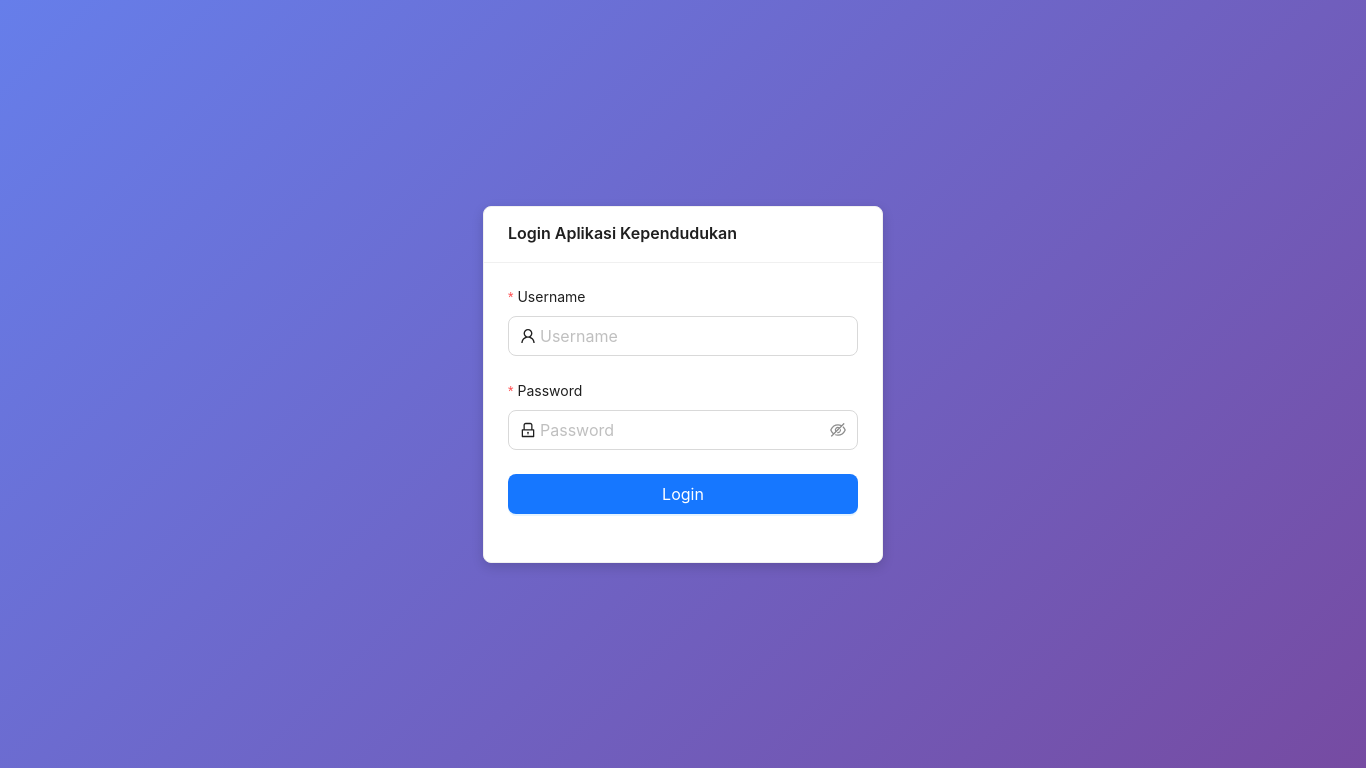
Aplikasi Kependudukan - Comprehensive Login Tests › Authentication Flow › should show error with wrong credentials
The width and height of the screenshot is (1366, 768).
Step 1. Type "wronguser" into the field with placeholder "Username" → (693, 336), box [540, 324, 846, 348]
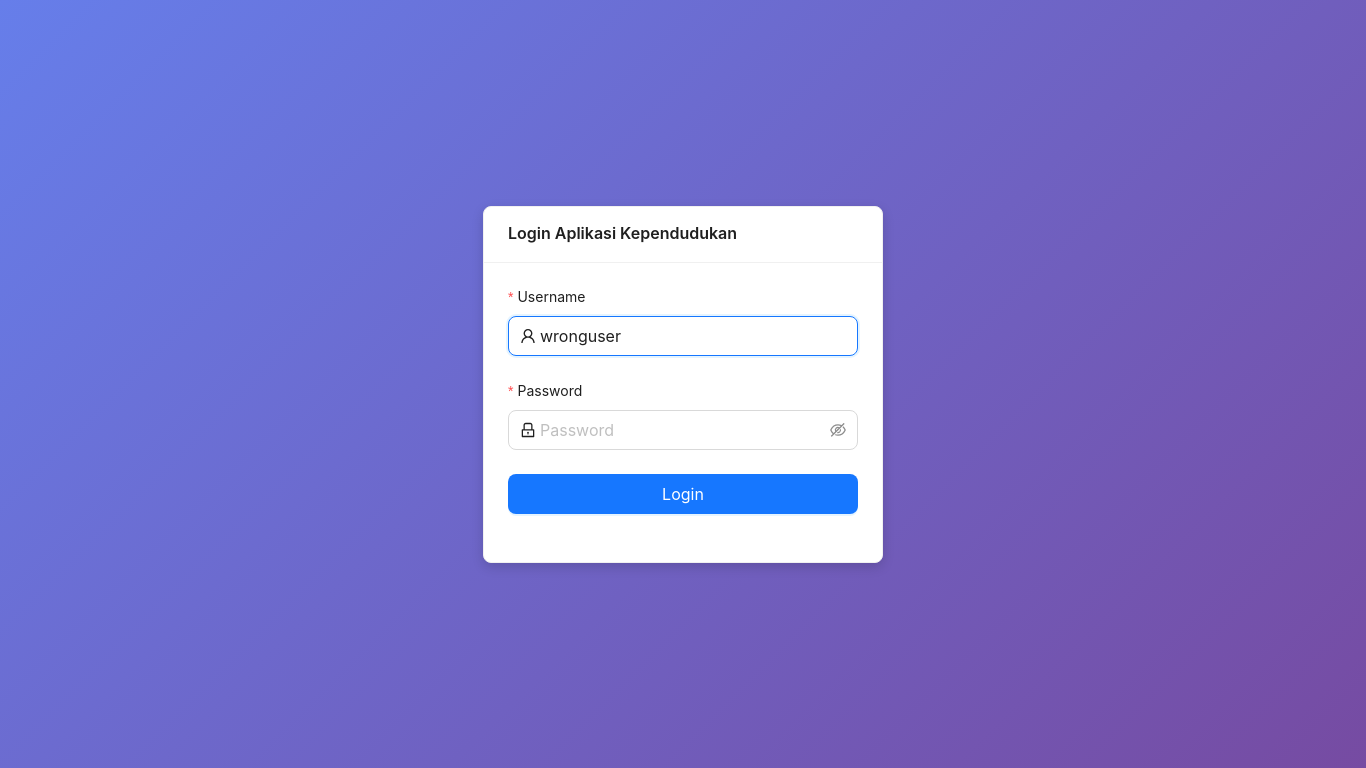
Step 2. Type "wrongpass" into the password field with placeholder "Password" → (683, 430), box [540, 418, 826, 442]
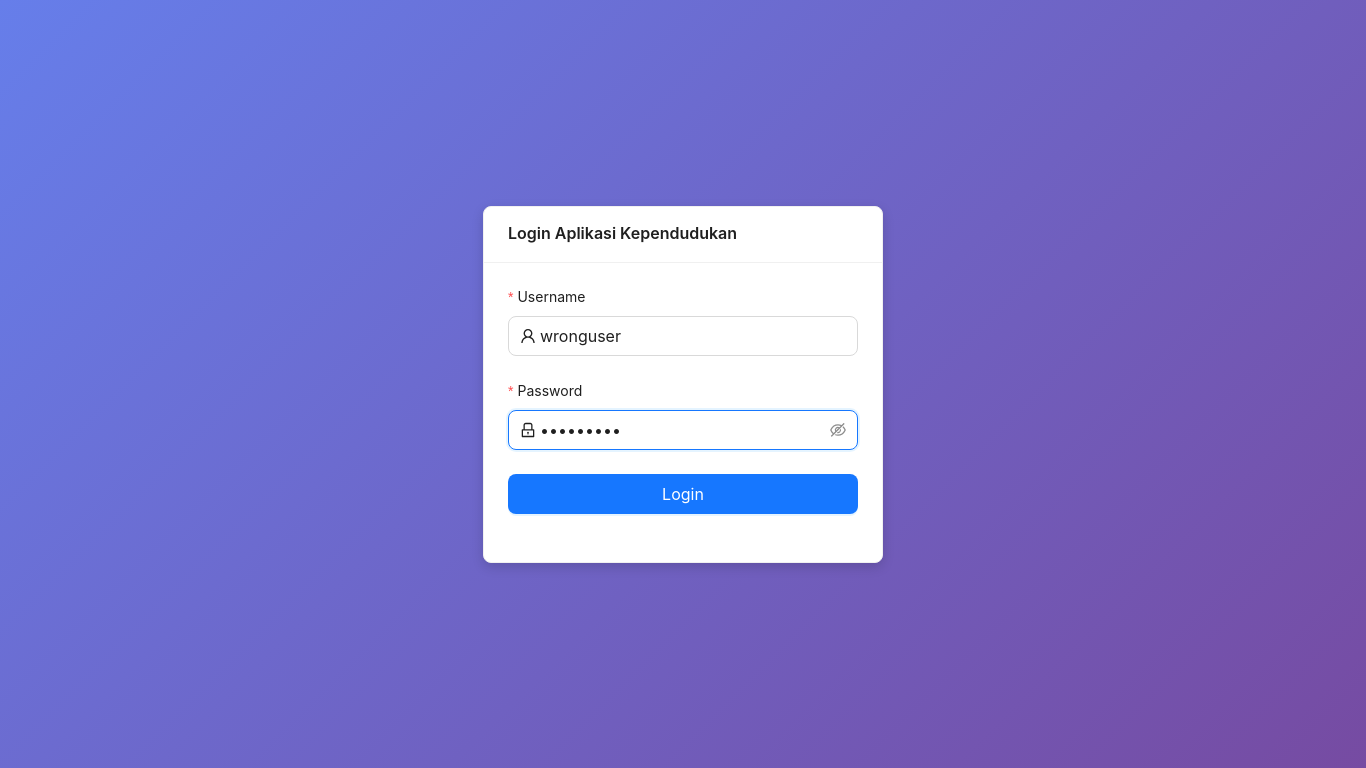
Step 3. Click the submit button → (683, 494), box [508, 474, 858, 514]
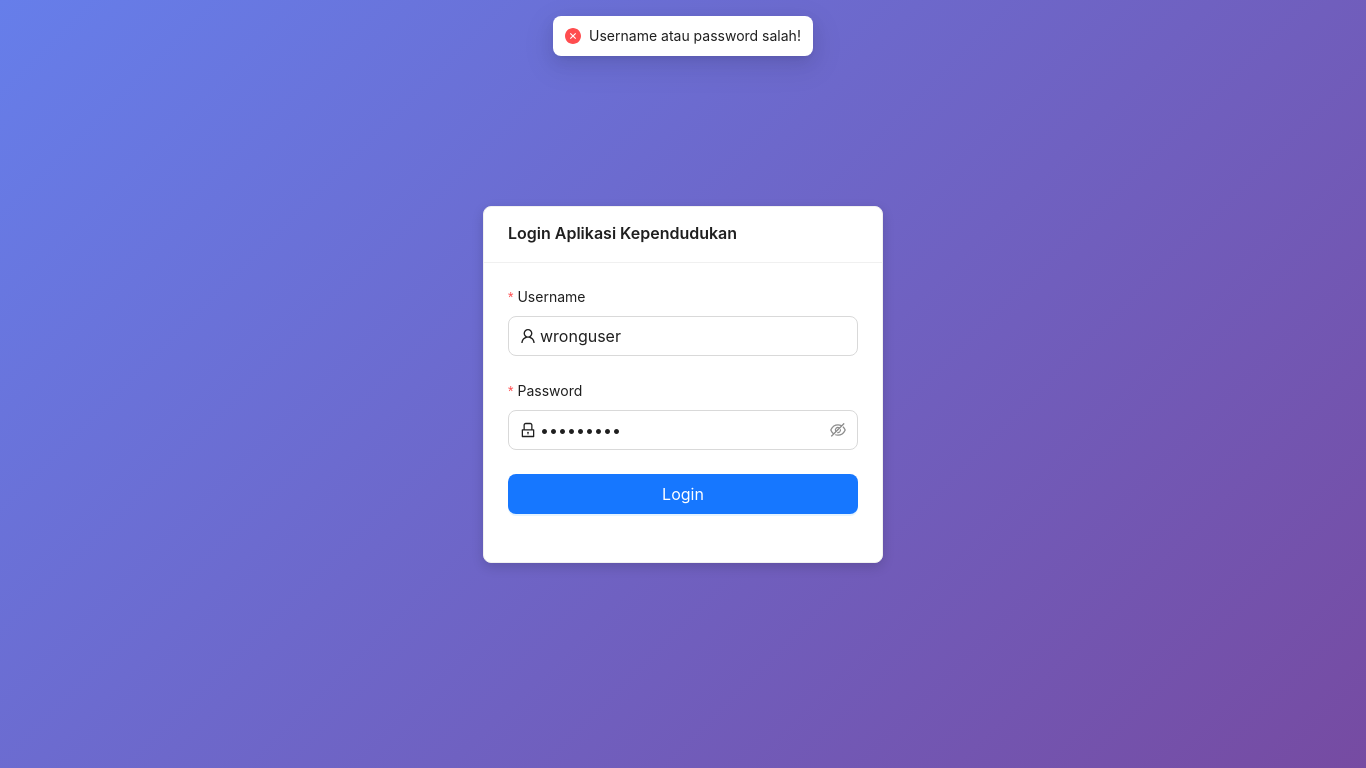
Expected: the text "Login Aplikasi Kependudukan" is shown, [508, 223, 737, 243]
Result: the text "Username atau password salah!" is shown at [589, 25, 801, 47]
